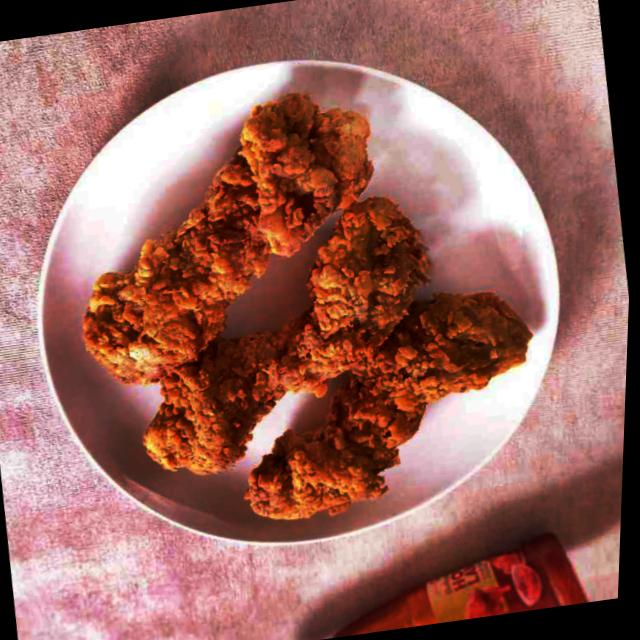fried_chicken: (50, 82, 396, 384), (107, 189, 450, 482), (221, 288, 550, 528)
